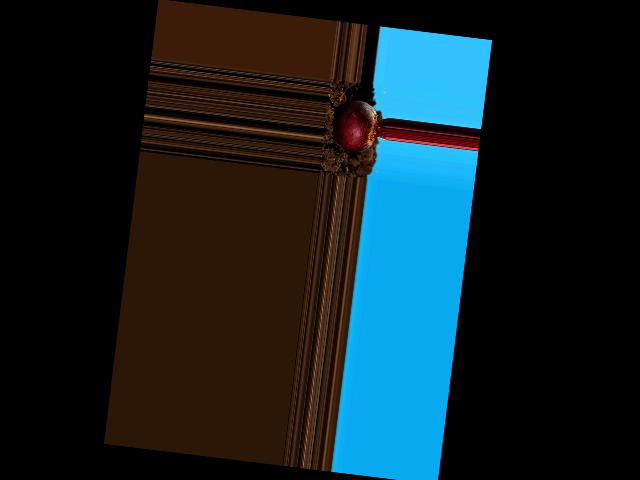beet: (330, 97, 390, 155)
